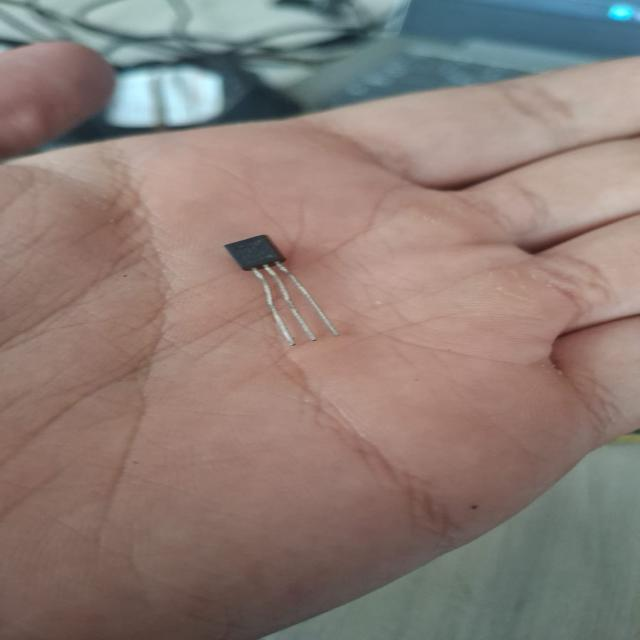Transistor: (224, 234, 339, 345)
